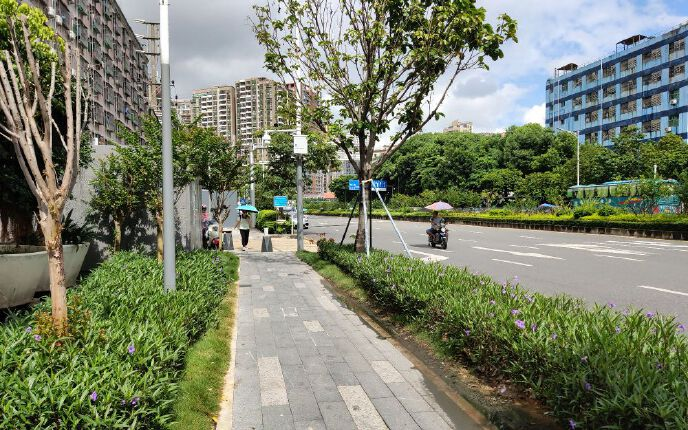绿化: (256, 1, 688, 429), (0, 47, 247, 426), (376, 125, 683, 240)
